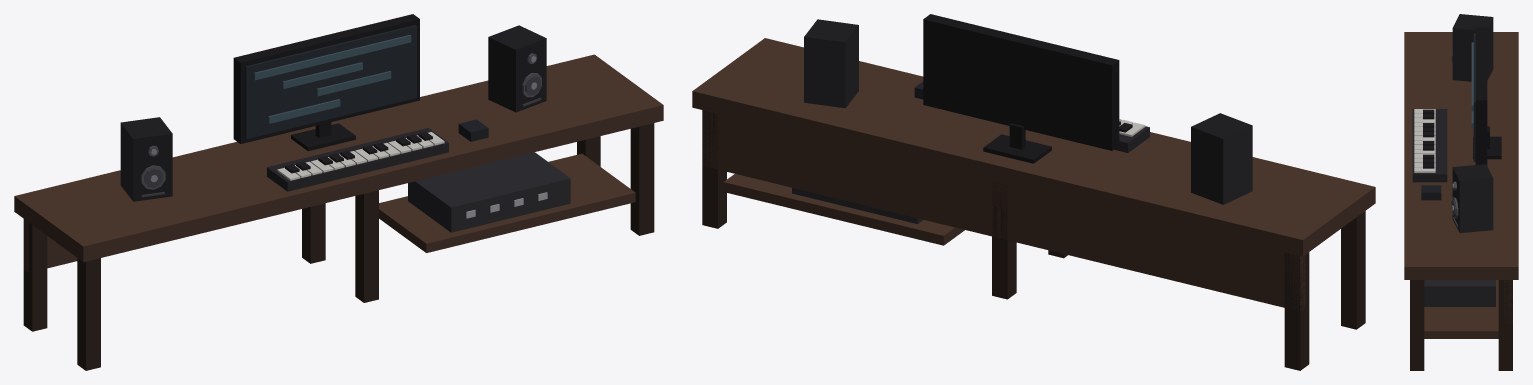
Rendered from dtm_desk_large.fbx.
3 views of the same model, side by side, from view 1: azimuth 30°, elevation 25°; view 2: azimuth 150°, elevation 25°; view 3: azimuth 270°, elevation 25° (orthographic). The views are drawn at different scales.
Parts seen in each view (by area): view 1: dtm_desk_large, monitor_speaker_R, monitor_speaker_L; view 2: dtm_desk_large, monitor_speaker_L, monitor_speaker_R; view 3: dtm_desk_large, monitor_speaker_R, monitor_speaker_L.
Part boxes in pixels (left/top/right/bottom): dtm_desk_large: left=14, top=14, right=663, bottom=370; monitor_speaker_R: left=488, top=25, right=546, bottom=112; monitor_speaker_L: left=120, top=117, right=172, bottom=201; dtm_desk_large: left=692, top=14, right=1375, bottom=370; monitor_speaker_L: left=1191, top=113, right=1252, bottom=204; monitor_speaker_R: left=804, top=19, right=858, bottom=108; dtm_desk_large: left=1404, top=27, right=1518, bottom=370; monitor_speaker_R: left=1451, top=164, right=1493, bottom=233; monitor_speaker_L: left=1451, top=14, right=1493, bottom=81.
Bounding box in the file's own units: 1.94 × 0.74 × 0.4.
